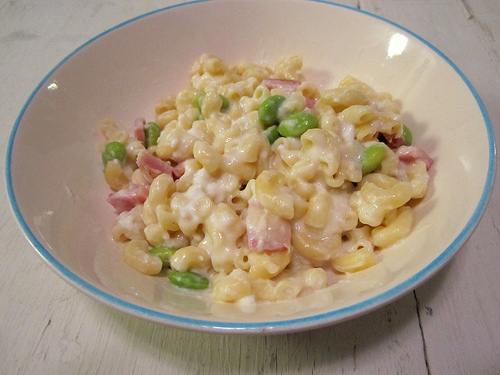macncheese: (98, 57, 436, 307)
